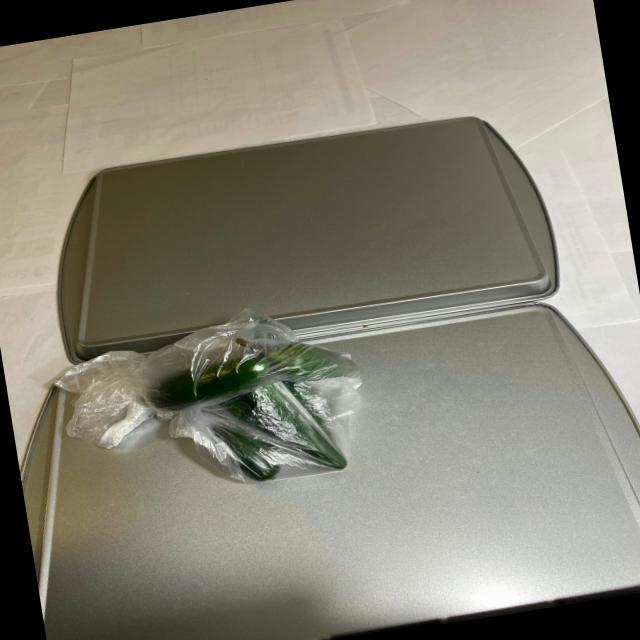chilli: (127, 306, 378, 510)
